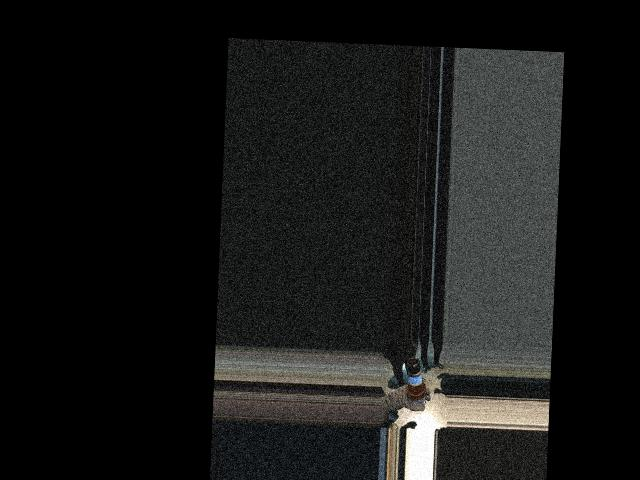beer: (404, 357, 428, 408)
